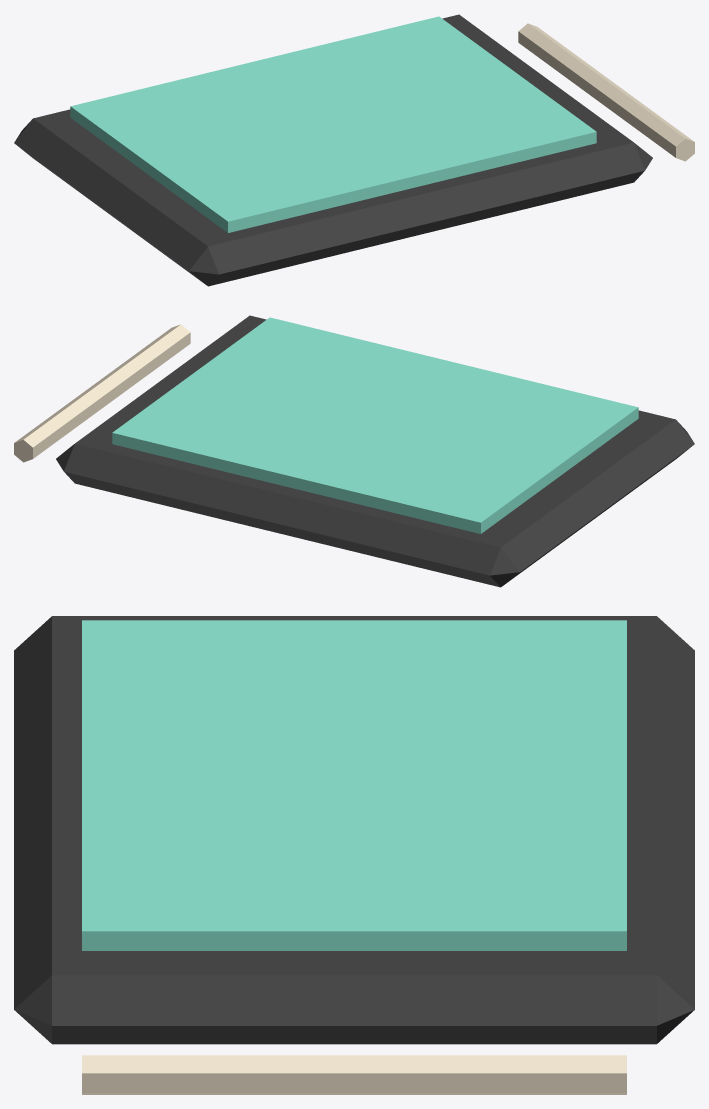
3 views of the same model, one above another, from view 1: azimuth 30°, elevation 25°; view 2: azimuth 150°, elevation 25°; view 3: azimuth 270°, elevation 25° (orthographic). The views are drawn at different scales.
Parts seen in each view (by area): view 1: Drawing area, Tablet, Pen; view 2: Drawing area, Tablet, Pen; view 3: Drawing area, Tablet, Pen.
Boxes of the visible parts, box(x1,y1,x2,y2) form: Drawing area: box(70, 16, 596, 232); Tablet: box(14, 14, 652, 286); Pen: box(518, 23, 694, 161); Drawing area: box(112, 317, 638, 533); Tablet: box(56, 315, 694, 587); Pen: box(14, 324, 190, 462); Drawing area: box(82, 620, 626, 950); Tablet: box(14, 616, 694, 1044); Pen: box(82, 1055, 626, 1094).
Size of the model in its own units: 0.3769 by 0.036 by 0.25.
1 material, 1 textured.
